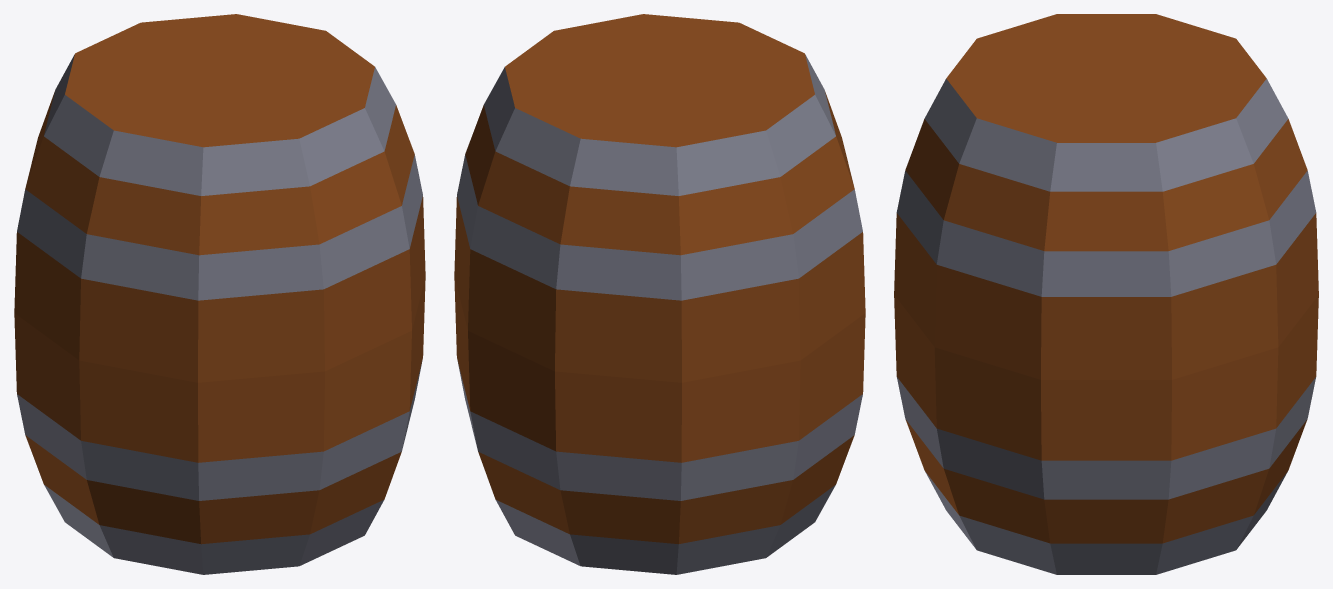
The model's file is Barrel.fbx.
3 views of the same model, side by side, from view 1: azimuth 30°, elevation 25°; view 2: azimuth 150°, elevation 25°; view 3: azimuth 270°, elevation 25° (orthographic).
Parts seen in each view (by area): view 1: Barrel; view 2: Barrel; view 3: Barrel.
Part boxes in pixels (box(x1,y1,x2,y2)): Barrel: box(14, 14, 425, 574); Barrel: box(454, 14, 865, 574); Barrel: box(894, 14, 1318, 574).
Bounding box in the file's own units: 0.9762 × 1.15 × 1.03.
